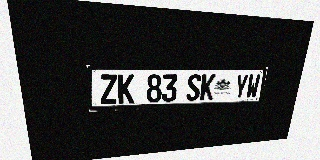3: (162, 74, 178, 102)
8: (146, 74, 162, 103)
K: (117, 74, 134, 104), (200, 74, 216, 101)
S: (186, 74, 202, 101)
W: (245, 74, 260, 99)
Y: (233, 74, 248, 99)
Z: (99, 74, 117, 105)
